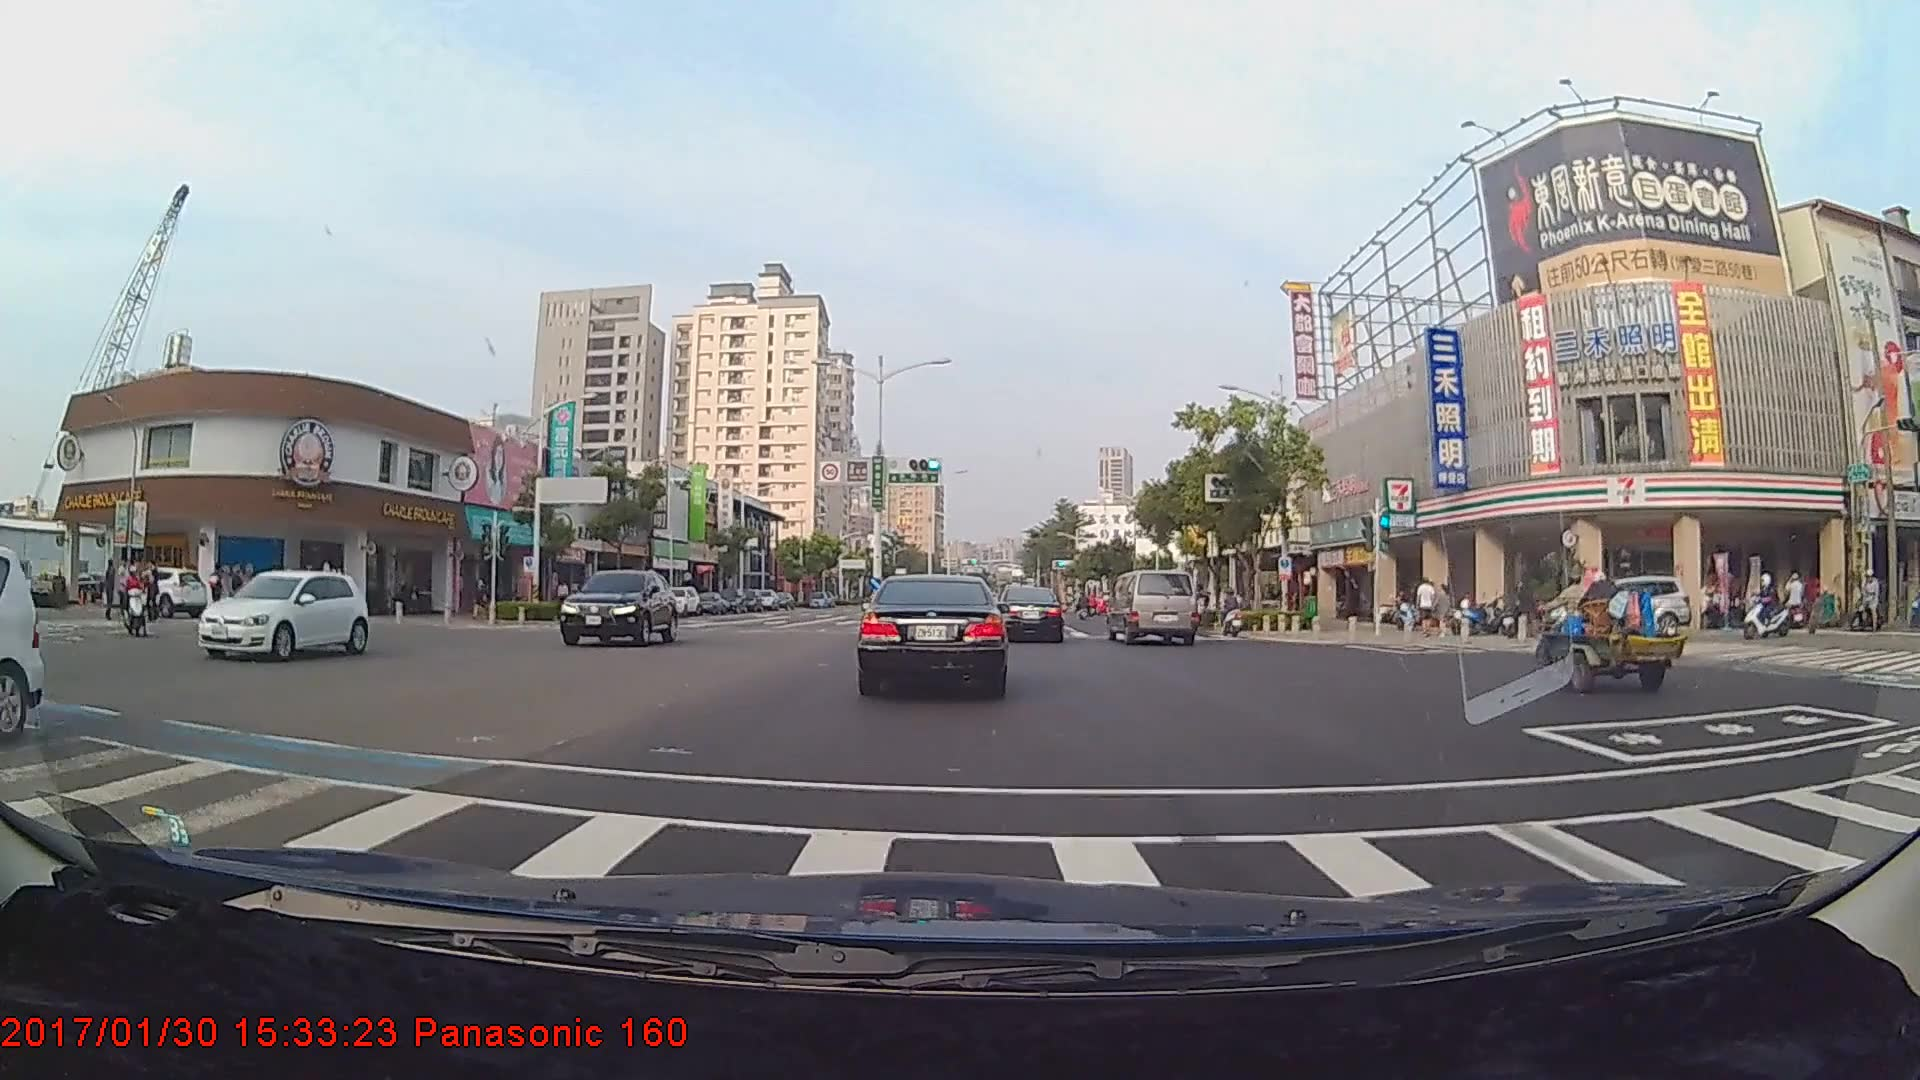pedestrian: (1416, 576, 1438, 638), (471, 573, 493, 624)
rider: (1739, 570, 1799, 644), (114, 561, 157, 638), (1216, 585, 1256, 641)
vehicle: (860, 570, 1008, 696), (195, 567, 372, 665), (1539, 574, 1690, 639), (561, 569, 676, 646), (1108, 569, 1196, 645), (991, 584, 1064, 644)
